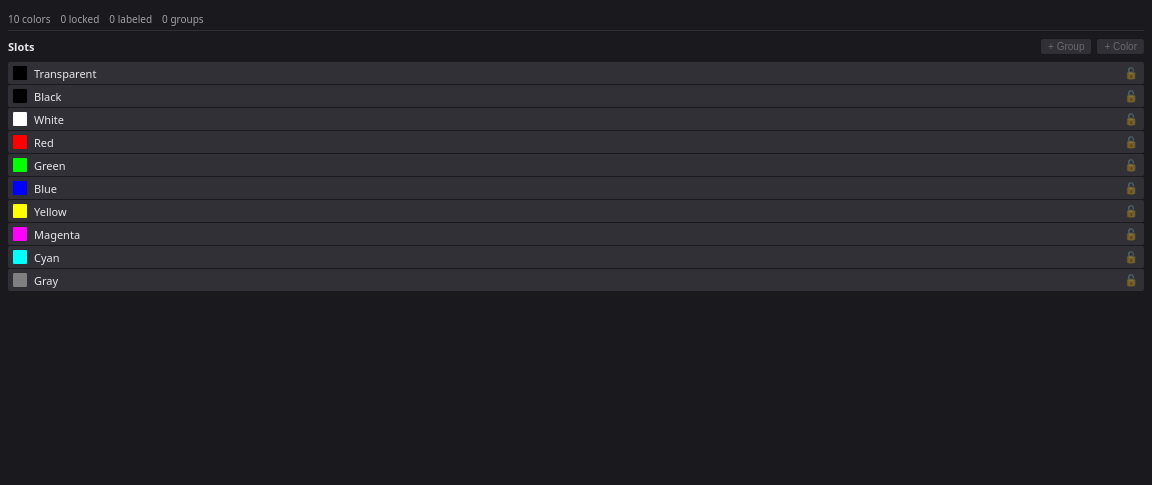
PalettePropsPanel › semantic role input updates color role
This screenshot has width=1152, height=485.
# Select slot 1
Click the element with test id "palette-slot-1" at (576, 96), box [8,85,1144,107]
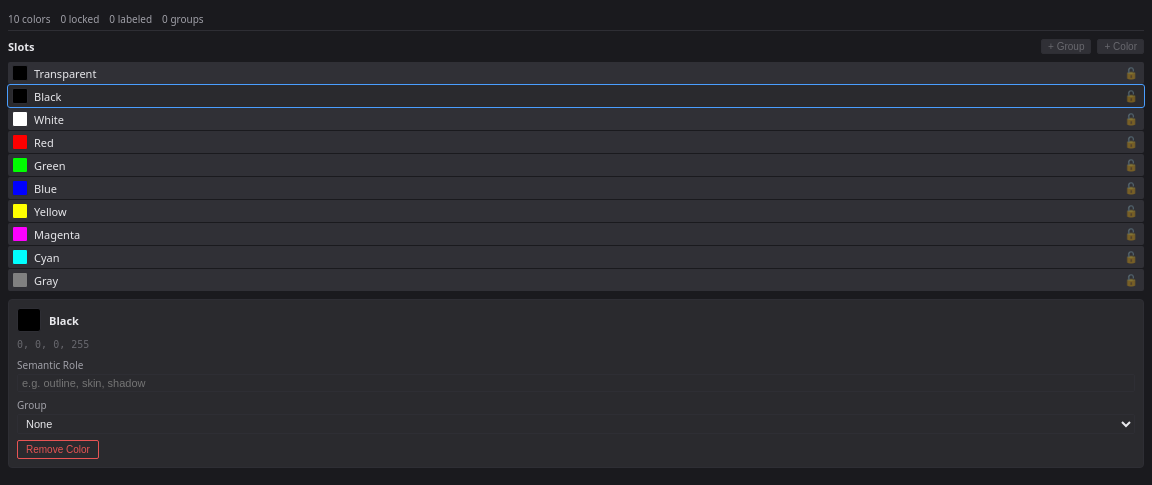
Type "outline" into the field with test id "palette-detail-role-input" at (576, 383), box [17,374,1135,392]
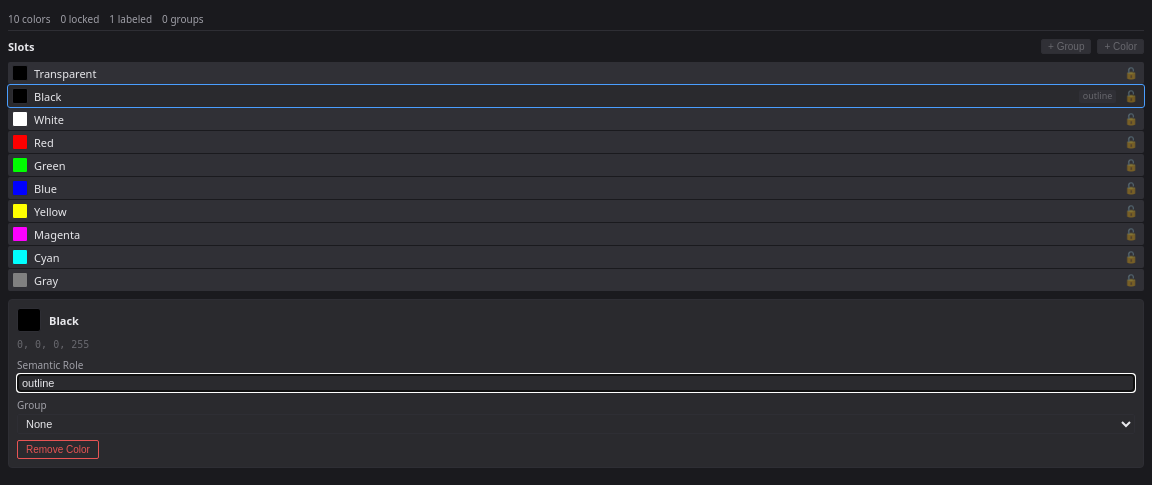
Check: the text "outline" is shown, box [1079,90,1116,103]
